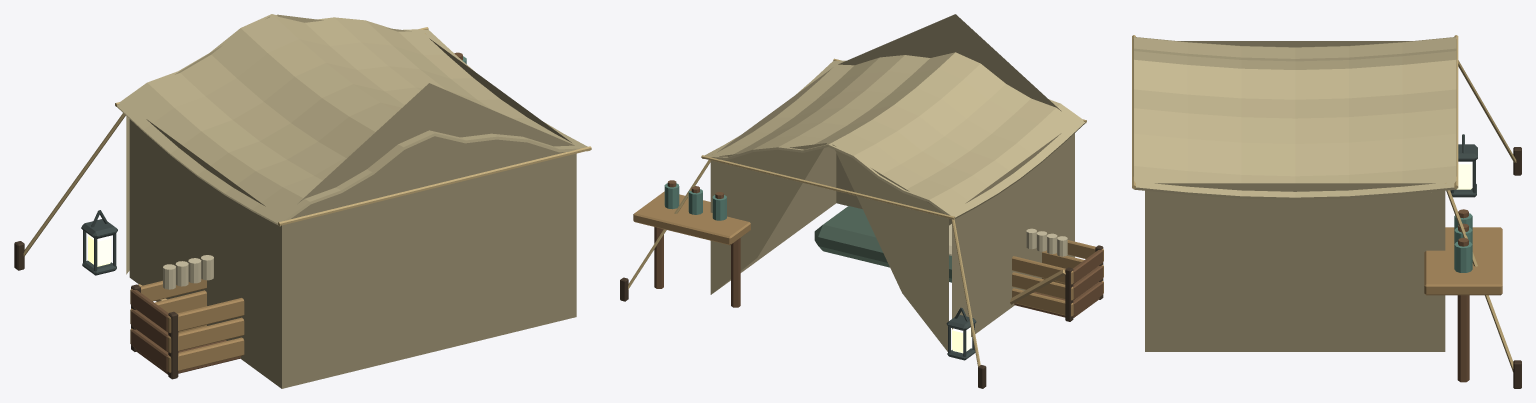
File: Camp_Medical_L2.fbx
3 renders of one model, left to right at view 1: azimuth 30°, elevation 25°; view 2: azimuth 150°, elevation 25°; view 3: azimuth 270°, elevation 25°, orthographic. The views are drawn at different scales.
Parts seen in each view (by area): view 1: Camp_Medical_L2_Export; view 2: Camp_Medical_L2_Export; view 3: Camp_Medical_L2_Export.
Boxes of the visible parts, box(x1,y1,x2,y2) form: Camp_Medical_L2_Export: box(14, 14, 591, 388); Camp_Medical_L2_Export: box(620, 14, 1103, 388); Camp_Medical_L2_Export: box(1132, 35, 1521, 388).
Bounding box in the file's own units: 4.27 × 2.45 × 3.24.
